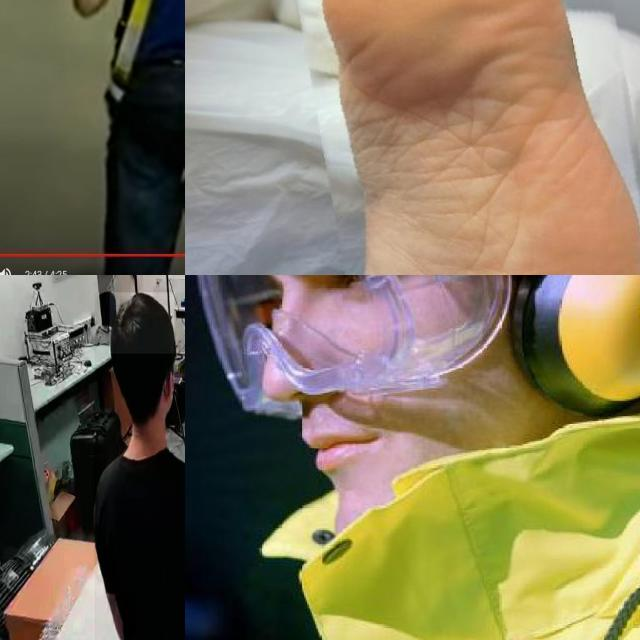Barefoots: (294, 0, 640, 275)
Ear-protection: (487, 275, 640, 415)
Harness: (102, 0, 185, 131)
glasses: (185, 275, 533, 431)
head_nohelmet: (109, 292, 175, 354)
person: (185, 275, 640, 640), (94, 292, 185, 640)
